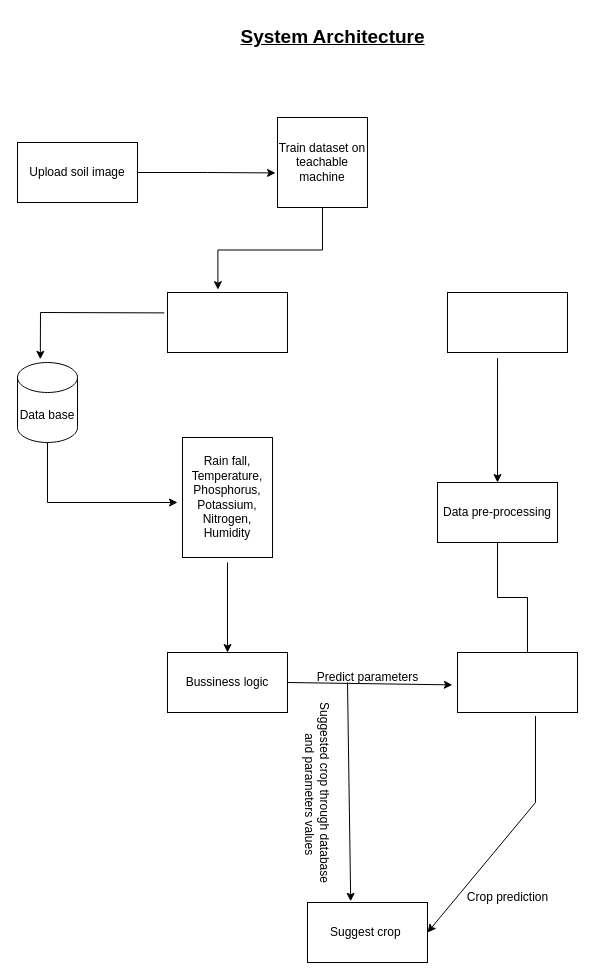
This 595x980 diagram has some shape labels left out. Here are the shapes that lost their labels. From the top down, the centre of each, then its label:
the point at 227,322: Predict soil type
the point at 507,322: Data values
the point at 517,682: Apply Random Forest
